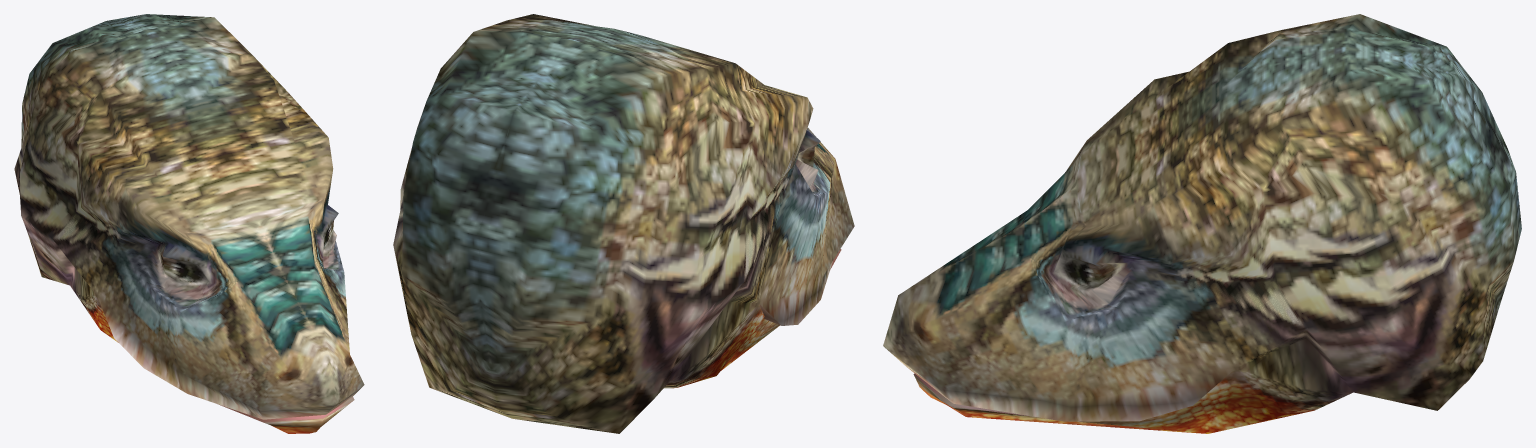
File: b_n_argonian_m_head_02.glb
The picture shows the model from 3 angles, left to right: view 1: azimuth 30°, elevation 25°; view 2: azimuth 150°, elevation 25°; view 3: azimuth 270°, elevation 25°; orthographic projection. The views are drawn at different scales.
Visible parts, largest first — view 1: Tri B_N_Argonian_M_Head_02; view 2: Tri B_N_Argonian_M_Head_02; view 3: Tri B_N_Argonian_M_Head_02.
Part boxes in pixels (<box>): Tri B_N_Argonian_M_Head_02: <box>14,14,364,433</box>; Tri B_N_Argonian_M_Head_02: <box>393,14,854,433</box>; Tri B_N_Argonian_M_Head_02: <box>883,14,1521,433</box>.
Bounding box in the file's own units: 0.0988 × 0.1188 × 0.1909.
1 material, 1 textured.
